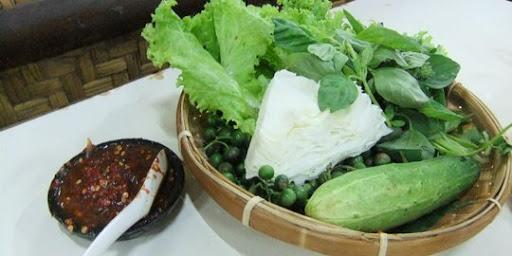buah_sayur_lainnya: (226, 71, 464, 180)
buah_sayur_vitA: (72, 162, 133, 200)
